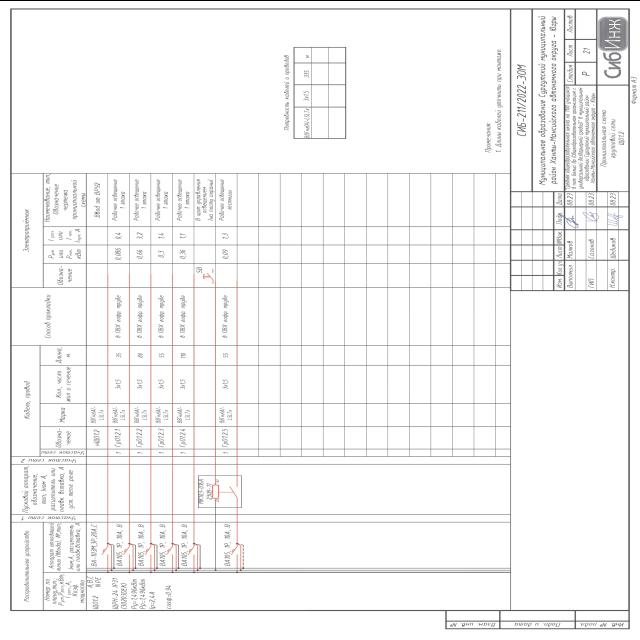-: (110, 576, 130, 610), (222, 523, 234, 566), (114, 522, 125, 566), (157, 522, 168, 566), (180, 522, 190, 566), (90, 522, 100, 566), (136, 522, 146, 566), (198, 477, 214, 503)
KM: (211, 482, 239, 498)
QF: (166, 545, 174, 556), (122, 545, 130, 556), (144, 545, 152, 556), (230, 545, 238, 556), (100, 546, 108, 556), (188, 545, 195, 556)
